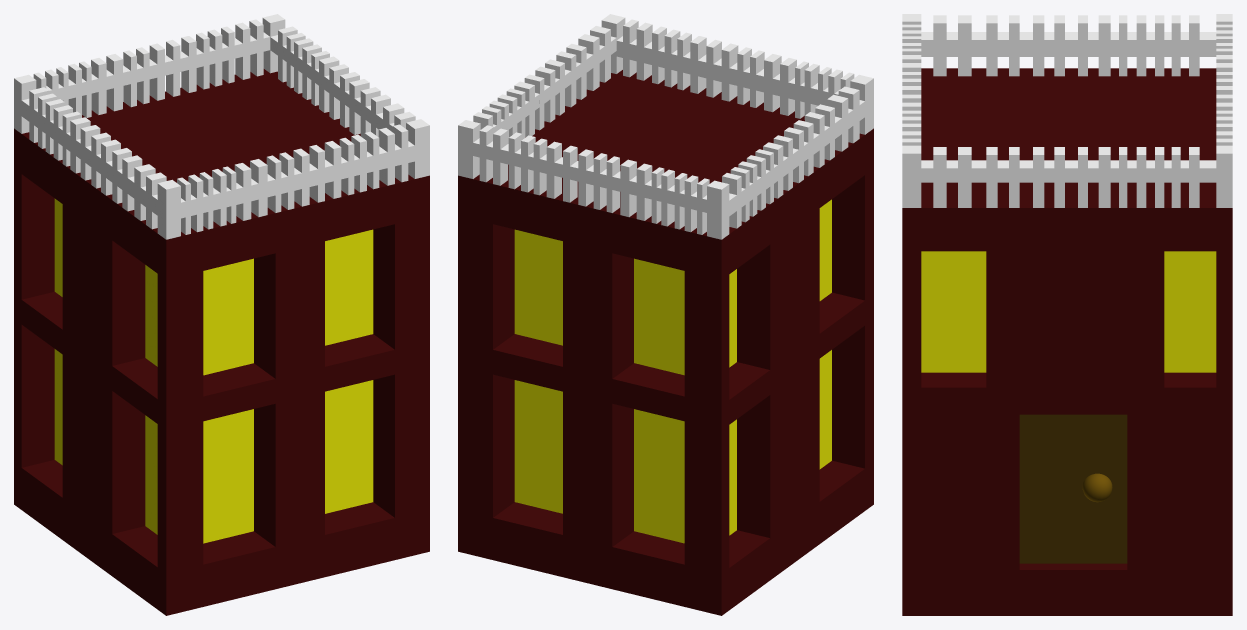
Rendered from House.fbx.
3 renders of one model, left to right at view 1: azimuth 30°, elevation 25°; view 2: azimuth 150°, elevation 25°; view 3: azimuth 270°, elevation 25°, orthographic. The views are drawn at different scales.
Parts seen in each view (by area): view 1: pCube1; view 2: pCube1; view 3: pCube1, pSphere1.
Part boxes in pixels (bbox=[...]): pCube1: bbox=[14, 14, 429, 615]; pCube1: bbox=[458, 14, 873, 615]; pCube1: bbox=[902, 14, 1232, 615]; pSphere1: bbox=[1082, 473, 1112, 502].
Size of the model in its own units: 5.5 by 8.5 by 5.5.
